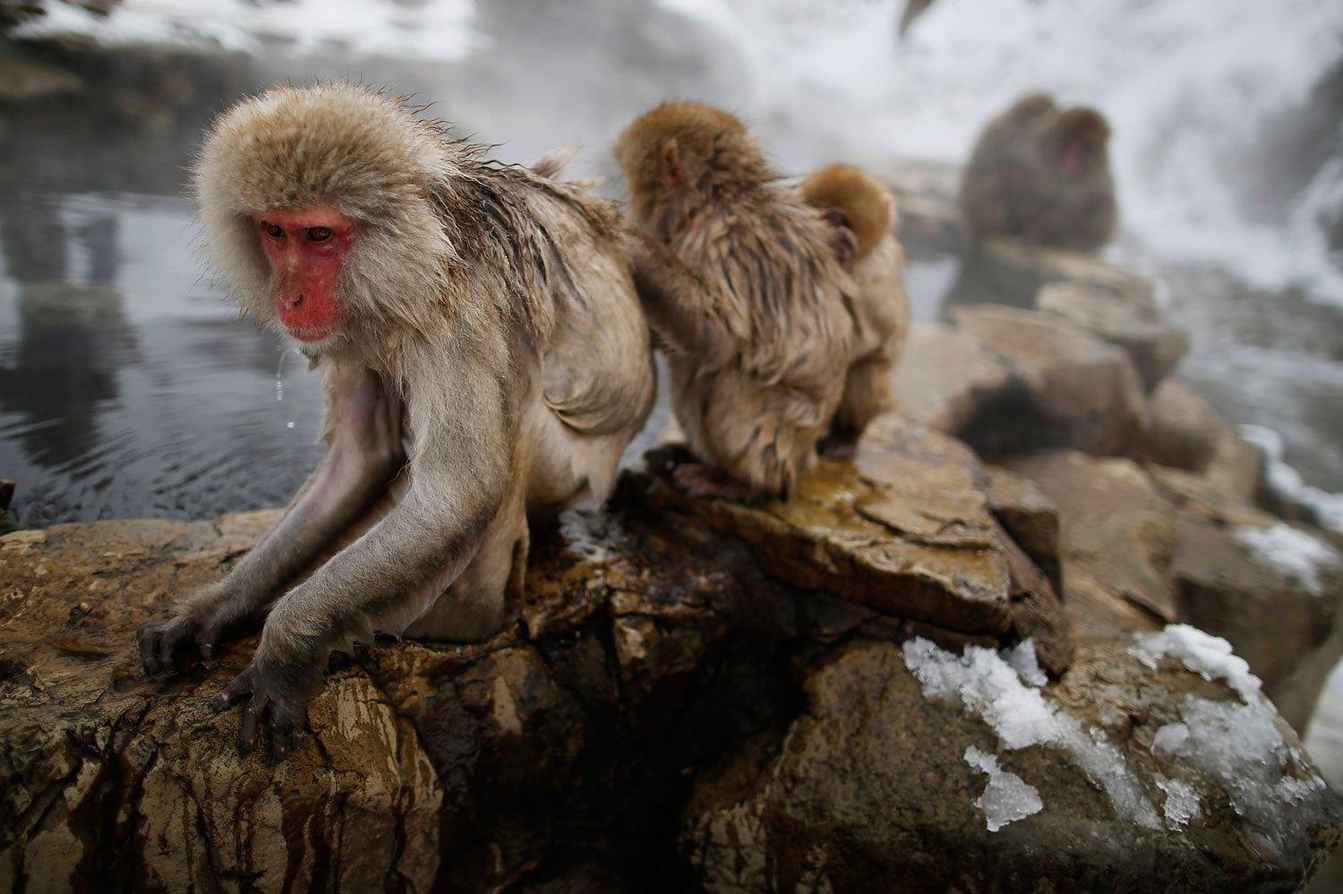monkey: (134, 82, 902, 722)
